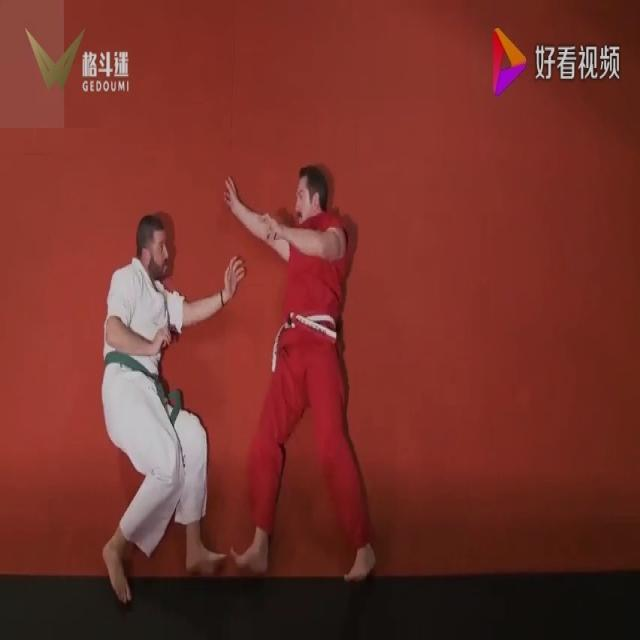fight: (96, 160, 380, 607)
